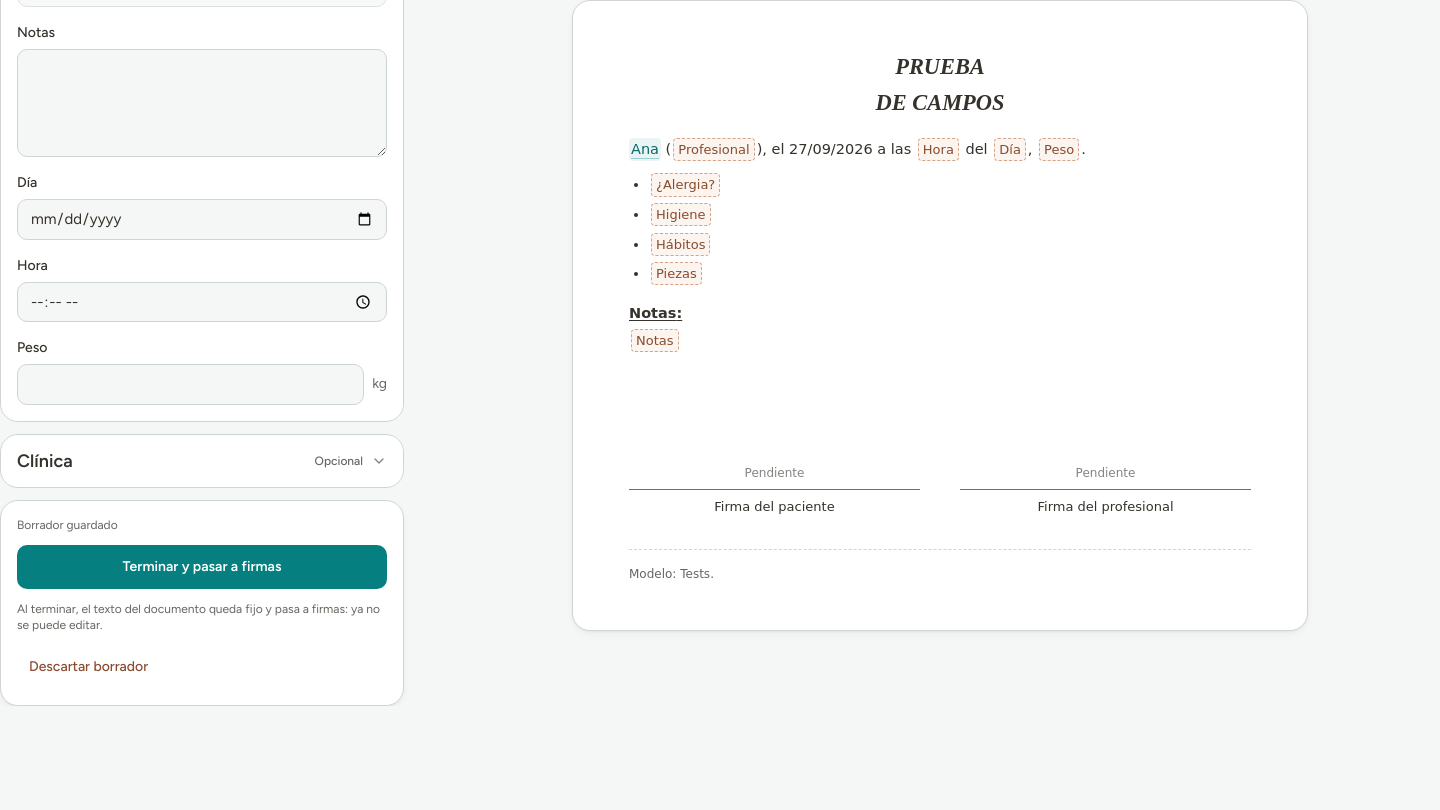
EditorDeDocumento › si la API no deja terminar, muestra por qué
(page scrolled)
Click the button "Terminar y pasar a firmas".
click(202, 566)  # box [17,544,387,588]
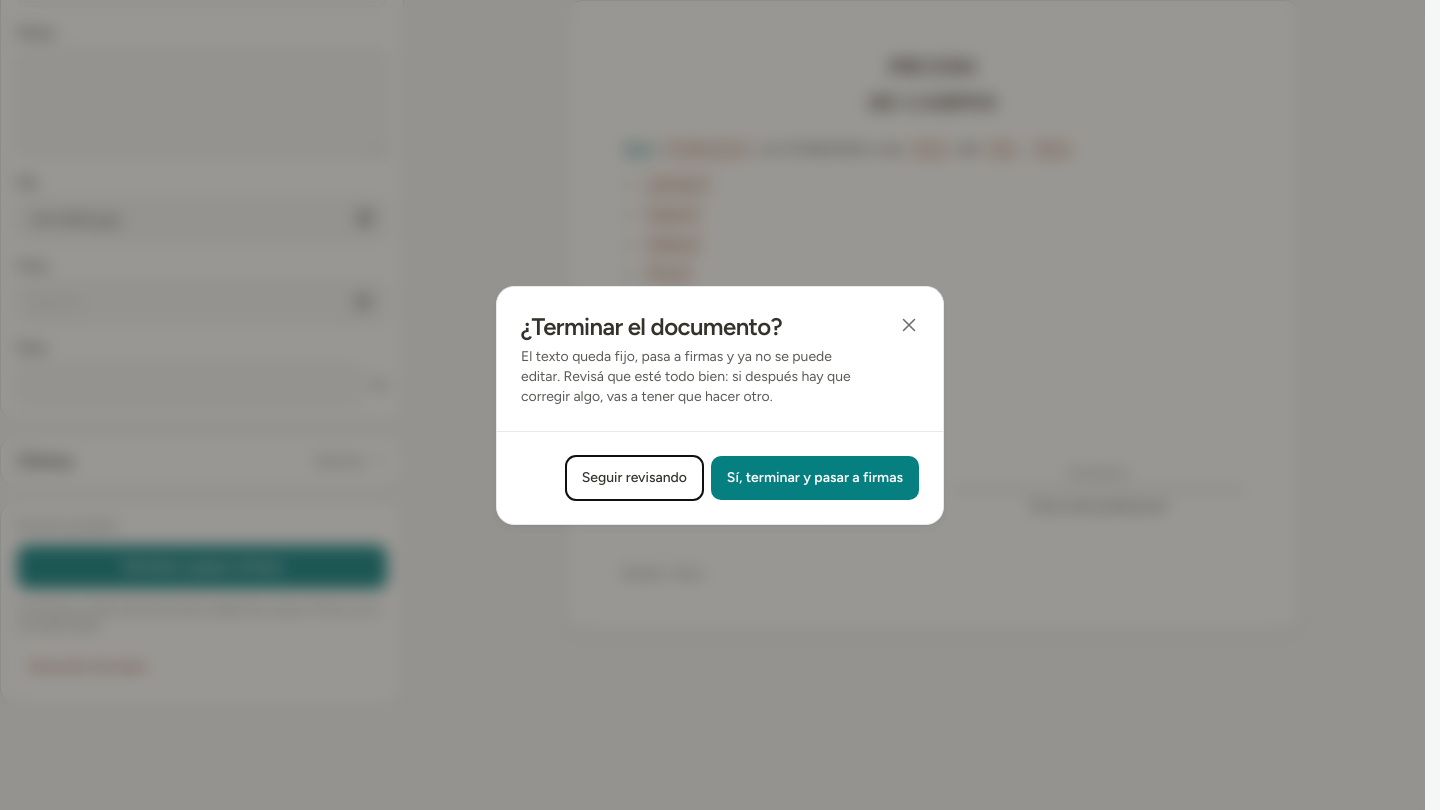
Click the button "Sí, terminar y pasar a firmas".
click(815, 478)  # box [711,456,919,500]
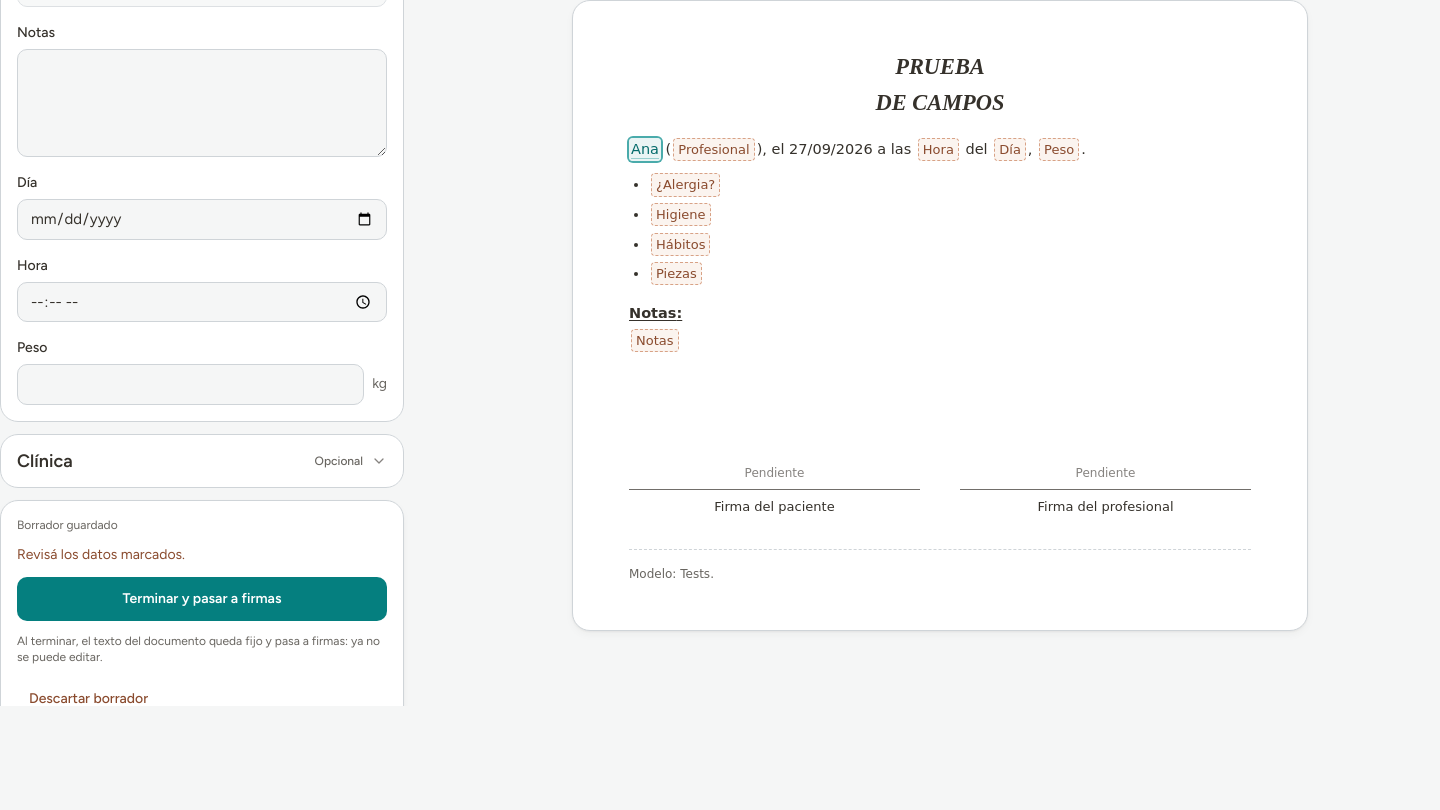
Expected: the text "Revisá los datos marcados." is shown, [17,546,185,562]
